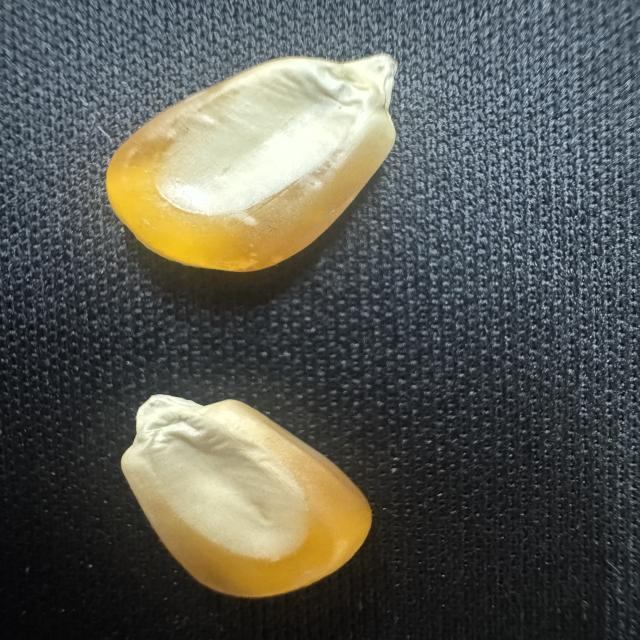Good-Seed: (100, 47, 406, 277), (115, 388, 377, 602)
